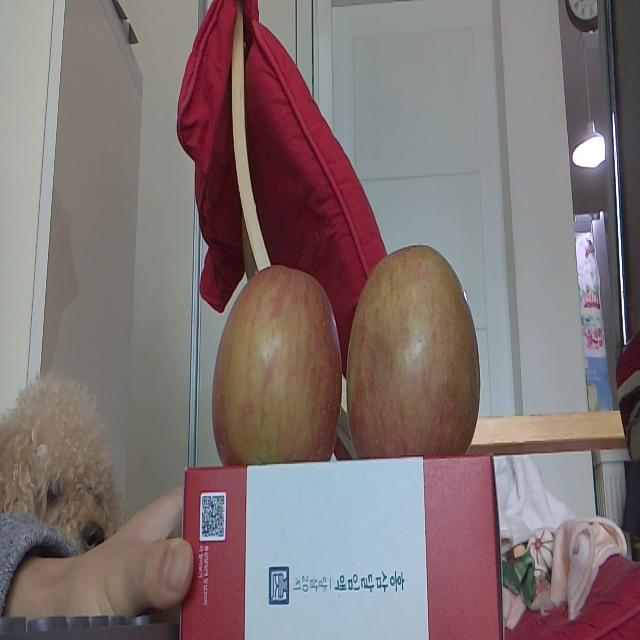apple: (347, 244, 481, 457), (212, 263, 342, 469)
